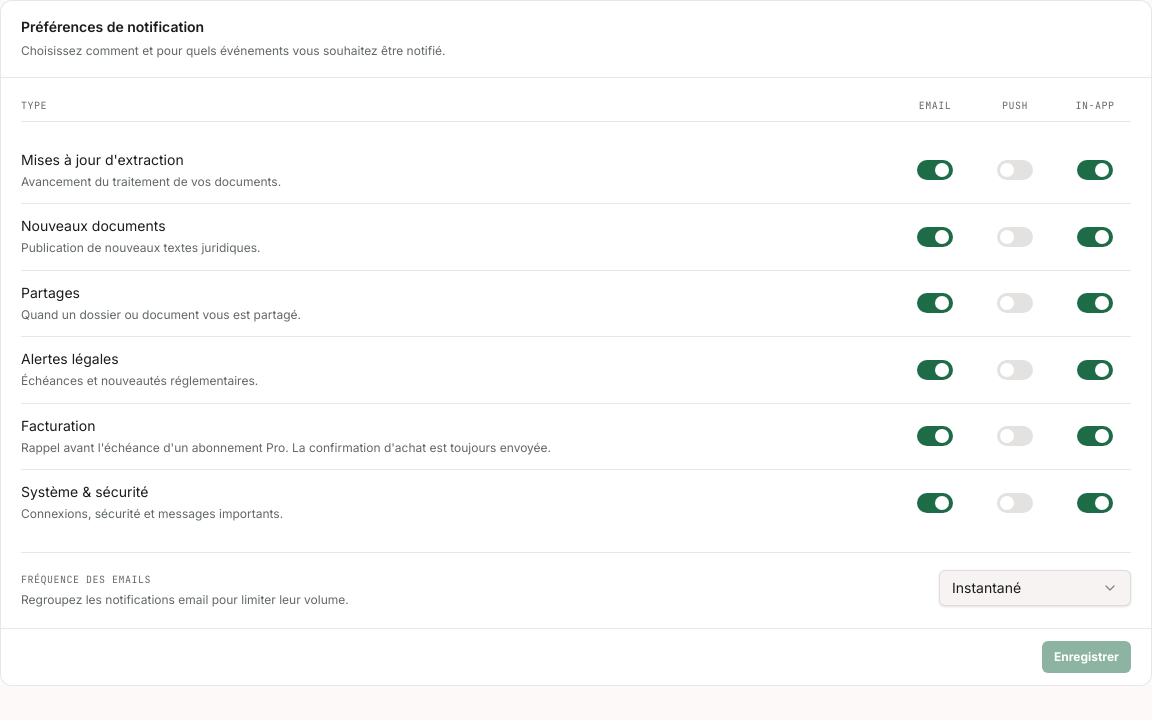
NotificationsCard › envoie la matrice mise à jour et confirme l’enregistrement
Expected: the button "Enregistrer" is disabled, [1042, 641, 1131, 673]
# Désactive l'email des « Mises à jour d'extraction ».
Click the switch named "Mises à jour d'extraction – Email": (935, 170) [917, 160, 953, 180]
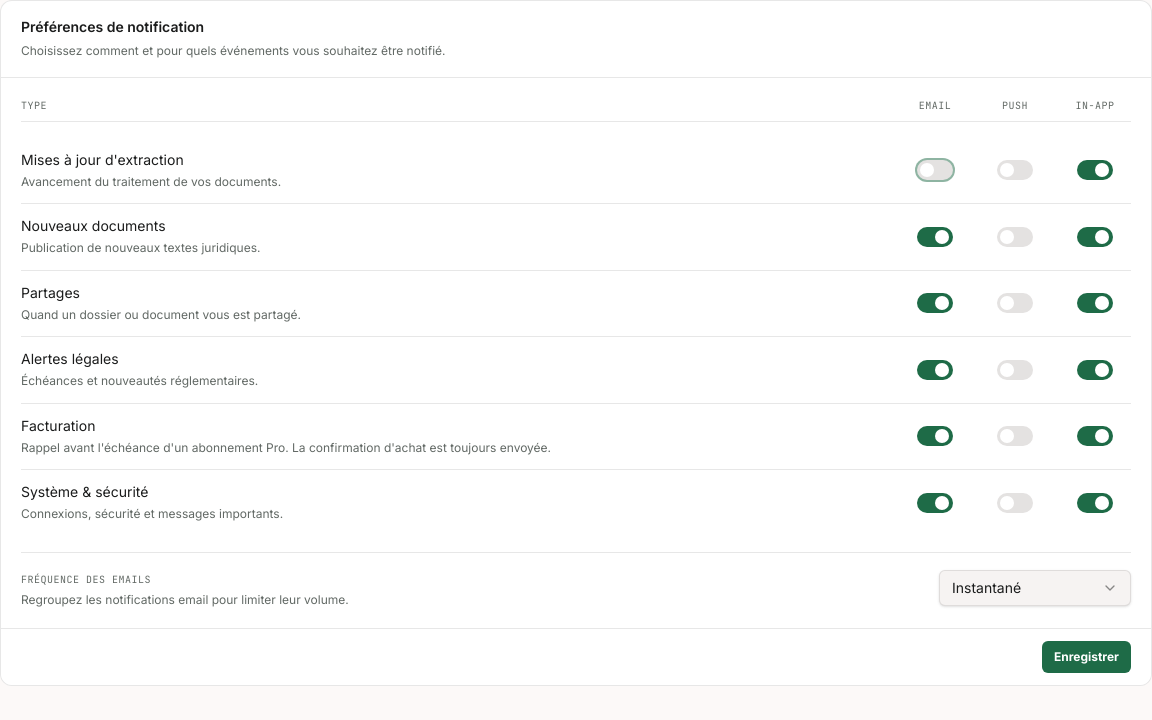
Expected: the button "Enregistrer" is enabled
Click the button "Enregistrer": (1086, 657) [1042, 641, 1131, 673]
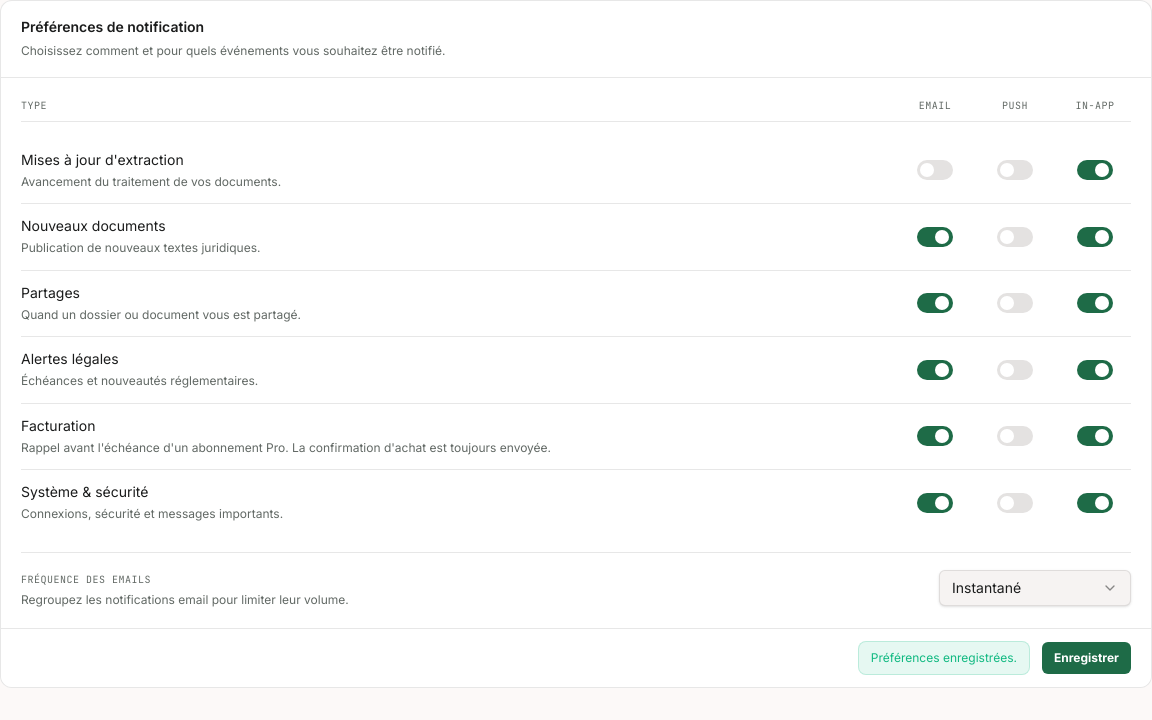
Expected: the text "Préférences enregistrées." is shown, [858, 641, 1030, 675]
